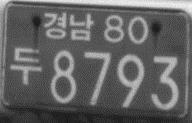0: (128, 15, 149, 45)
3: (149, 54, 181, 111)
7: (82, 49, 112, 107)
8: (50, 49, 78, 102), (103, 14, 125, 44)
9: (116, 52, 147, 110)
경남_O: (42, 10, 94, 43)
두: (7, 45, 43, 87)
